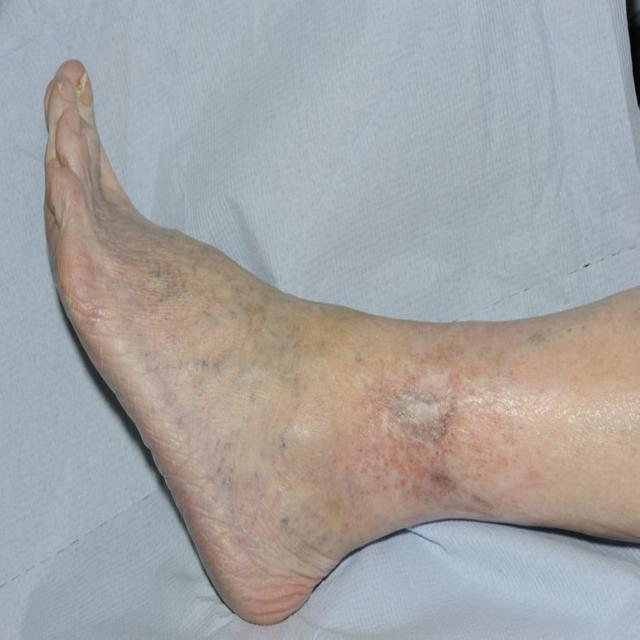wound: (390, 378, 458, 465)
